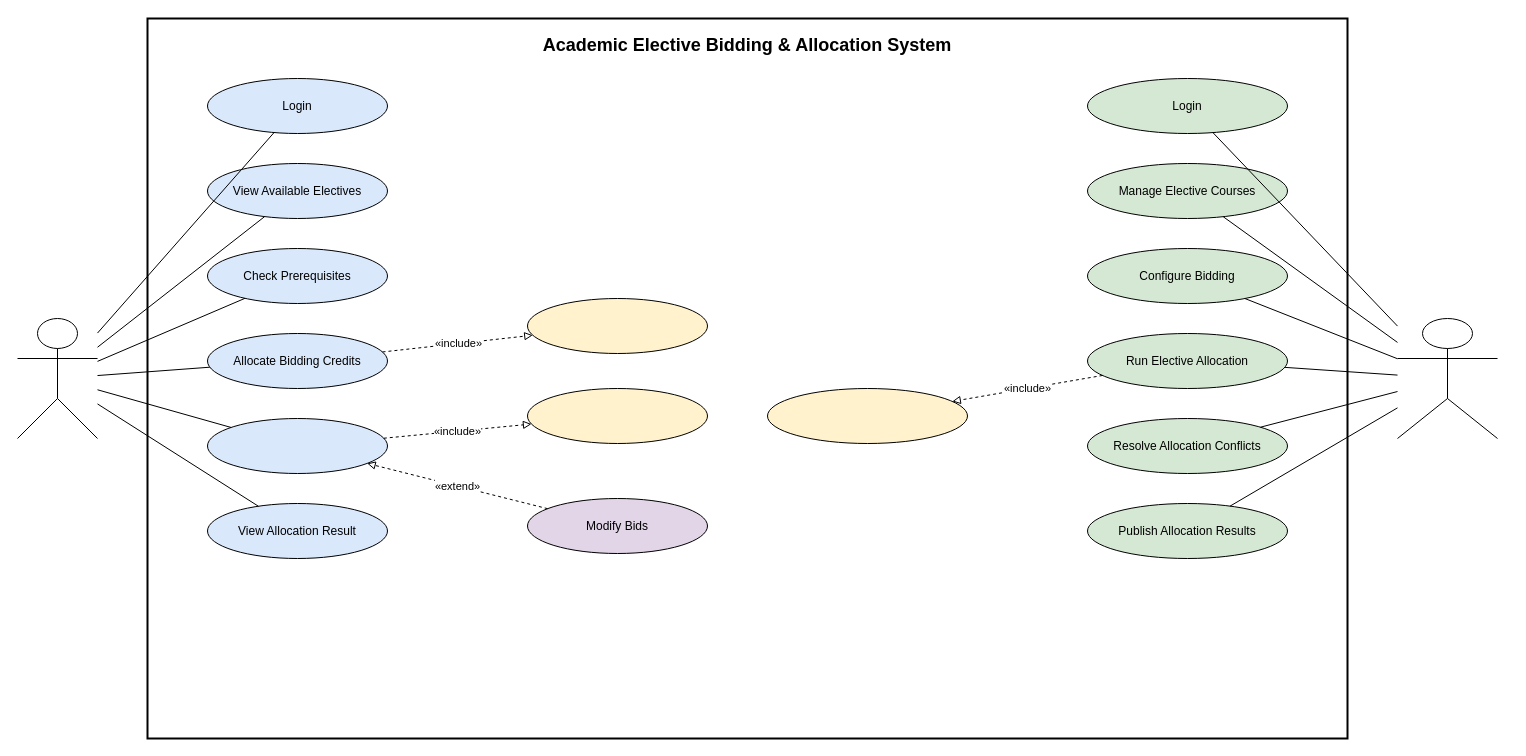
Some shapes in this 1526 by 756 pixel diagram are drawn without their labels. Each missing label, with the centre of its shape:
"Academic Registrar" belongs at point (1447, 378).
"Check Credit Limit" belongs at point (617, 326).
"Check Timetable Conflicts" belongs at point (867, 416).
"Student" belongs at point (57, 378).
"Submit Bids" belongs at point (297, 446).
"Validate Bids" belongs at point (617, 416).
